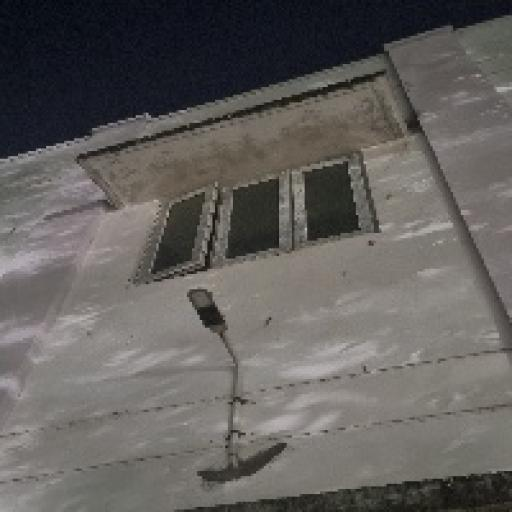Not Working: (178, 282, 238, 346)
